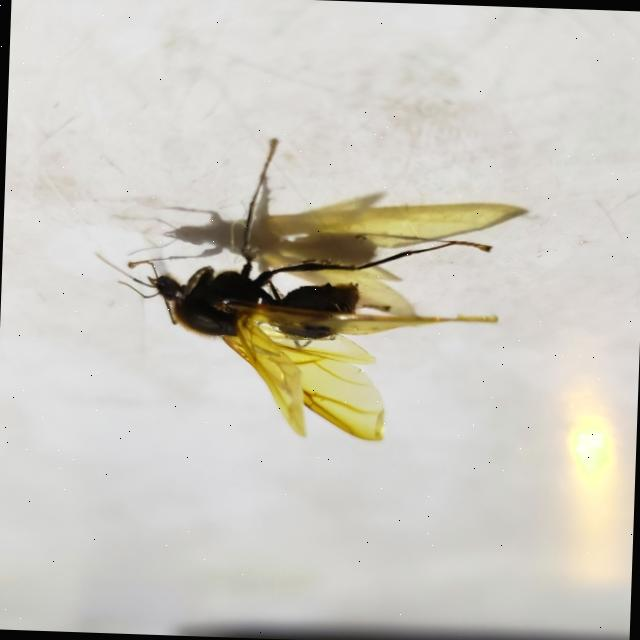Alive-Male-Alate: (87, 130, 505, 446)
